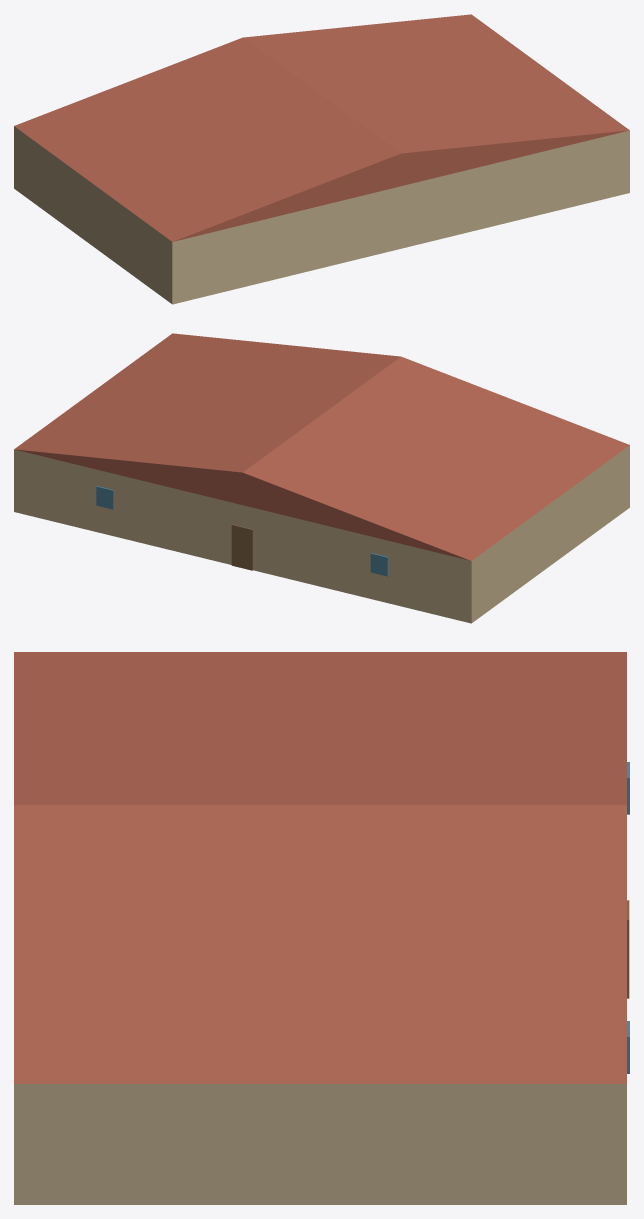
The model's file is landmark_citadel.glb.
3 views of the same model, one above another, from view 1: azimuth 30°, elevation 25°; view 2: azimuth 150°, elevation 25°; view 3: azimuth 270°, elevation 25° (orthographic). The views are drawn at different scales.
Size of the model in its own units: 17.6 by 3.5 by 10.61.
